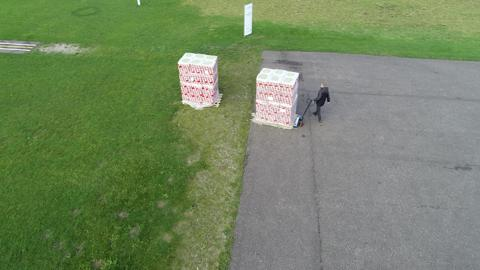RockwoolPallet: (176, 53, 222, 107)
